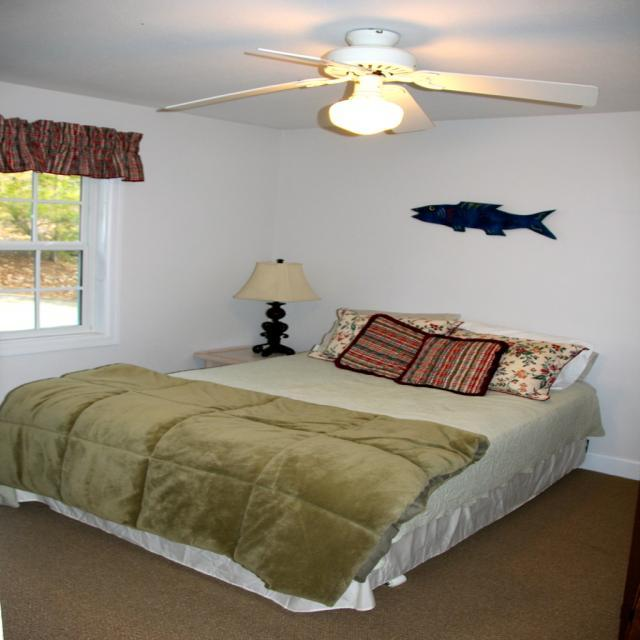fan_off: (160, 30, 600, 127)
